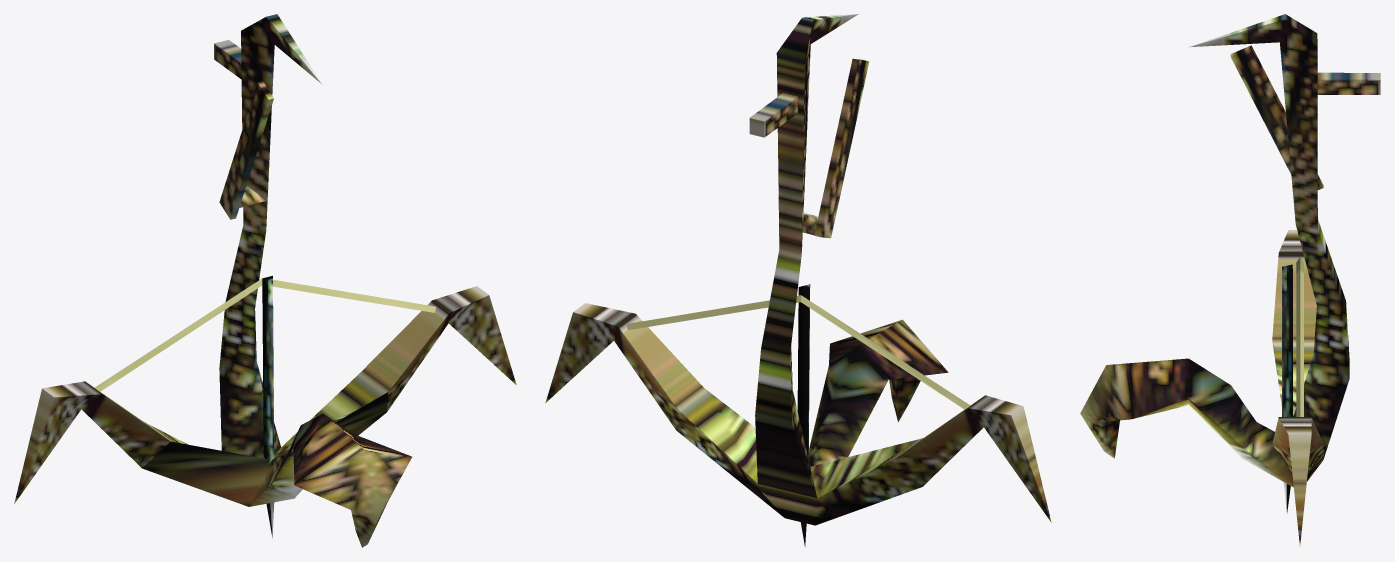
Rendered from elf_weapon_great_reign_crossbow.glb.
3 renders of one model, left to right at view 1: azimuth 30°, elevation 25°; view 2: azimuth 150°, elevation 25°; view 3: azimuth 270°, elevation 25°, orthographic. The views are drawn at different scales.
Parts seen in each view (by area): view 1: module_ELF_weapon_great_reign_crossbow; view 2: module_ELF_weapon_great_reign_crossbow; view 3: module_ELF_weapon_great_reign_crossbow.
Part boxes in pixels (x1,y1,x2,y2): module_ELF_weapon_great_reign_crossbow: [14, 14, 516, 547]; module_ELF_weapon_great_reign_crossbow: [545, 14, 1051, 547]; module_ELF_weapon_great_reign_crossbow: [1080, 14, 1380, 546].
Size of the model in its own units: 1.28 by 1.28 by 0.7025.
Materials: 1 (1 with a texture image).
